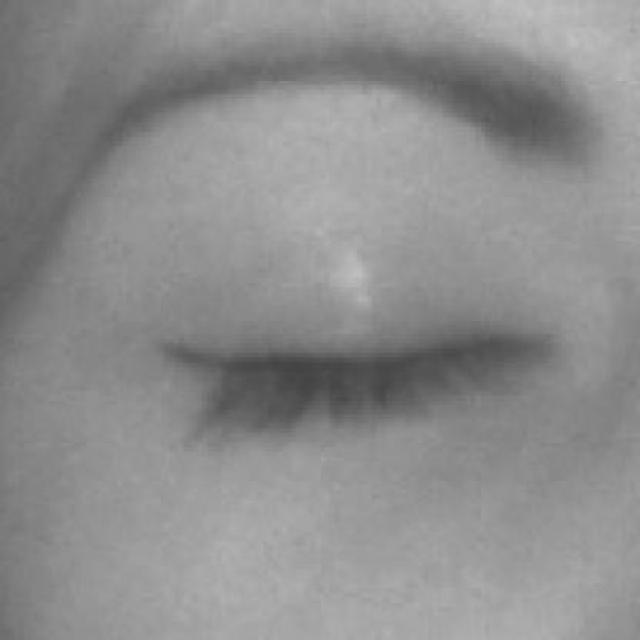drowsy: (146, 199, 539, 553)
